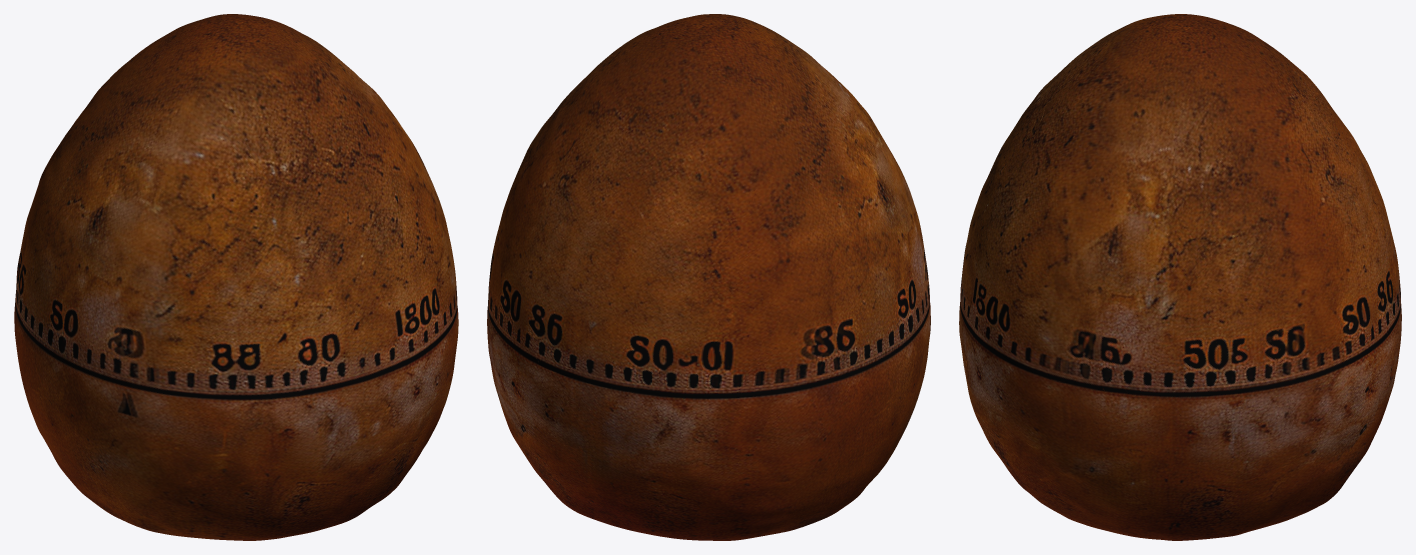
File: uovo.glb
3 views of the same model, side by side, from view 1: azimuth 30°, elevation 25°; view 2: azimuth 150°, elevation 25°; view 3: azimuth 270°, elevation 25° (orthographic).
Visible parts, largest first — view 1: tmpgs9bt7x0.ply; view 2: tmpgs9bt7x0.ply; view 3: tmpgs9bt7x0.ply.
Part boxes in pixels (x1,y1,x2,y2): tmpgs9bt7x0.ply: (14, 14, 458, 540); tmpgs9bt7x0.ply: (487, 14, 930, 540); tmpgs9bt7x0.ply: (959, 14, 1401, 540).
Bounding box in the file's own units: 1.67 × 1.96 × 1.68.
1 material, 1 textured.
